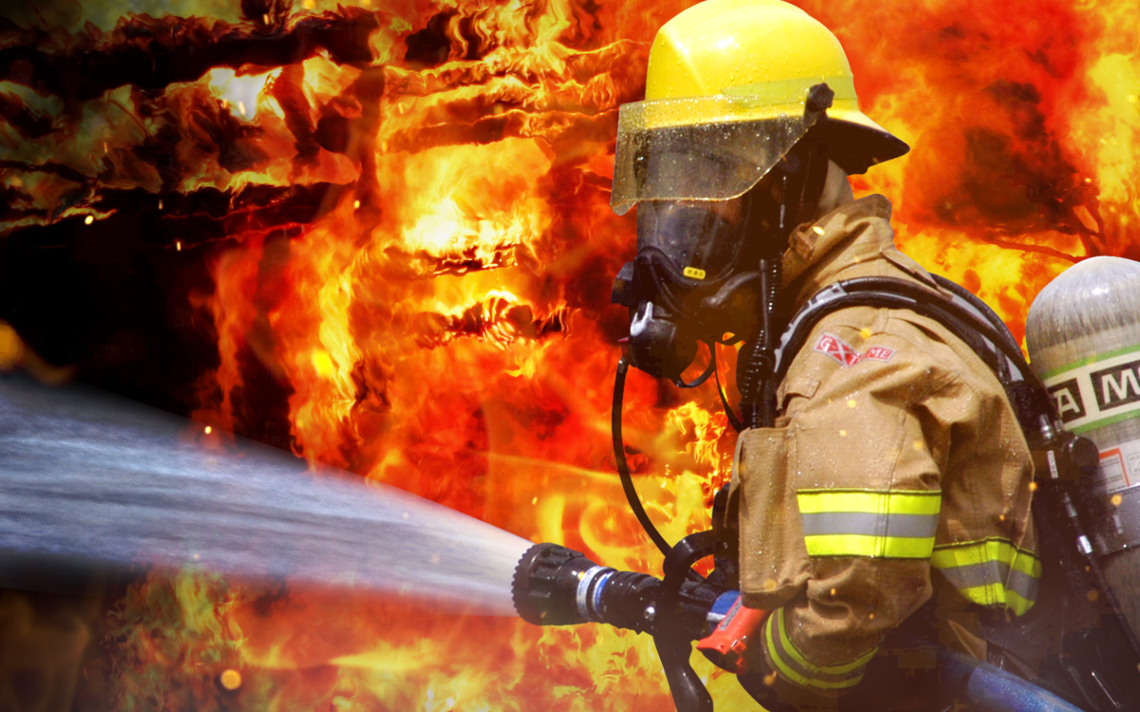Fire: (915, 26, 1132, 240), (391, 144, 555, 271), (205, 63, 354, 185), (290, 230, 374, 440), (429, 287, 570, 375)
